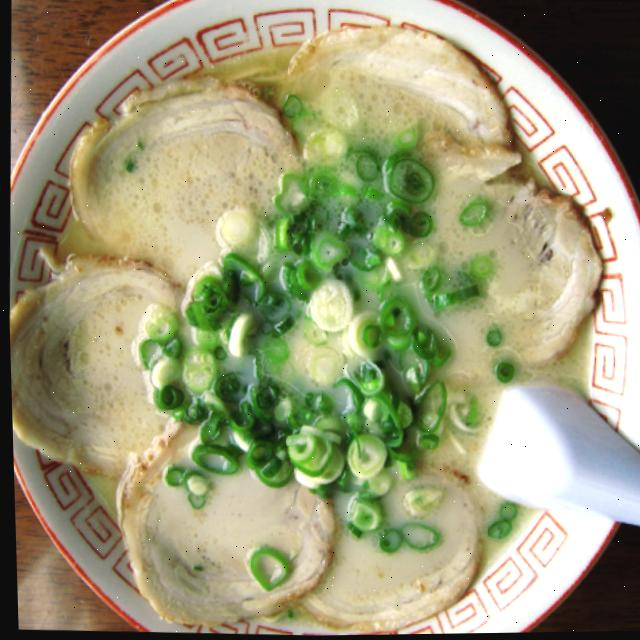面条主食: (1, 15, 625, 640)
